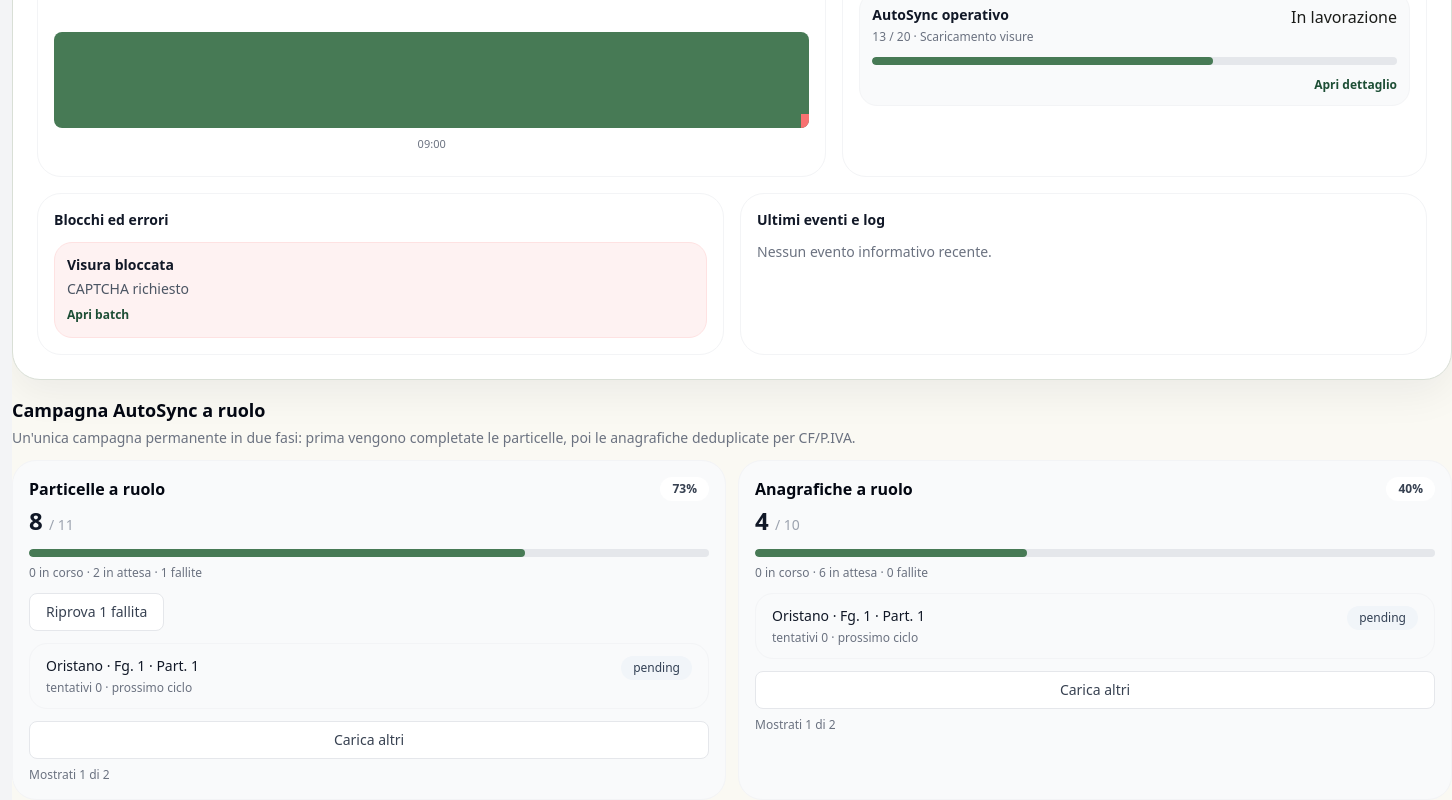
ElaborazioneRequestWorkspace continuous sync › shows campaign pagination loading state
(page scrolled)
Click the button "Carica altri" below "11".
click(369, 740)  # box [29, 721, 709, 759]
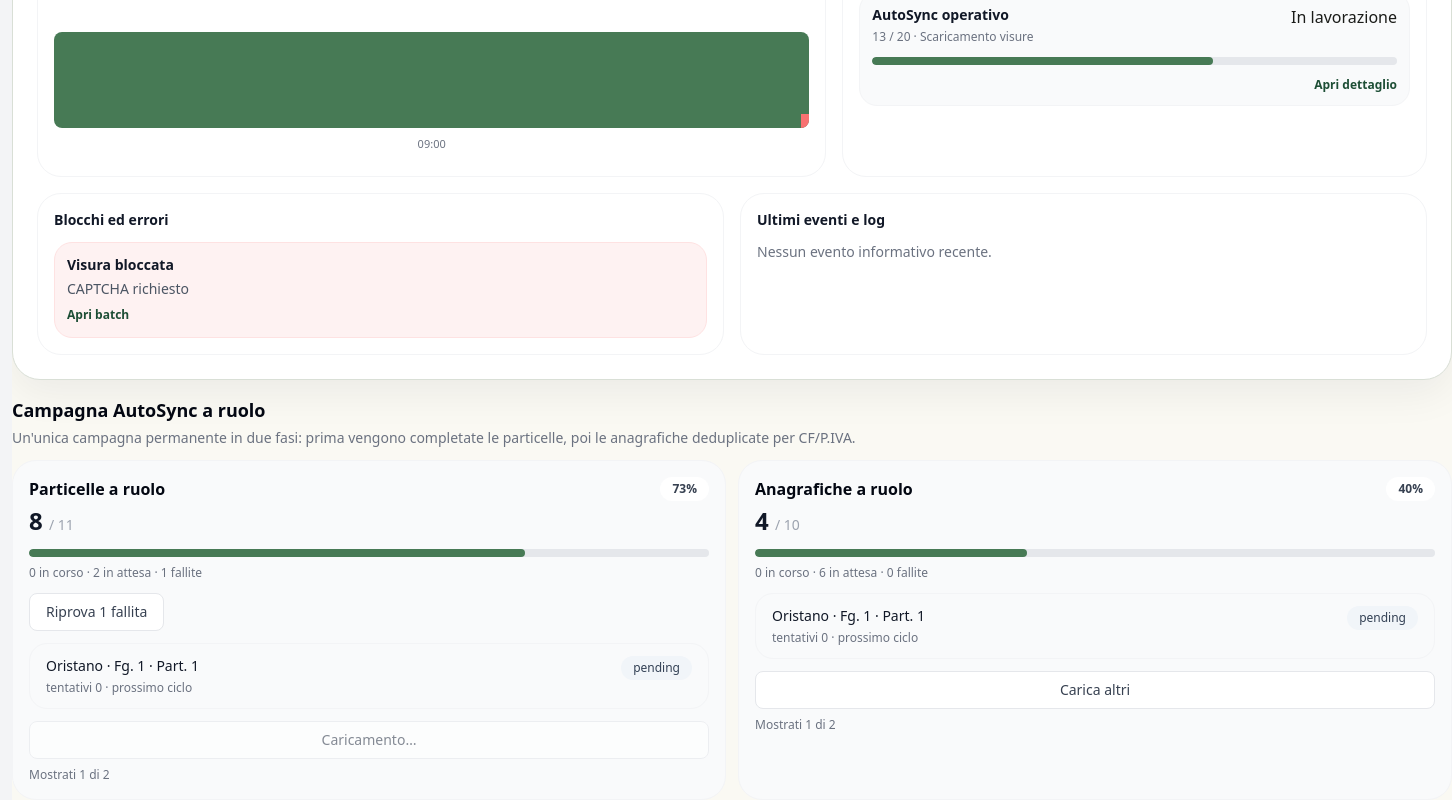
Expected: the button "Caricamento…" is disabled, [29, 721, 709, 759]
